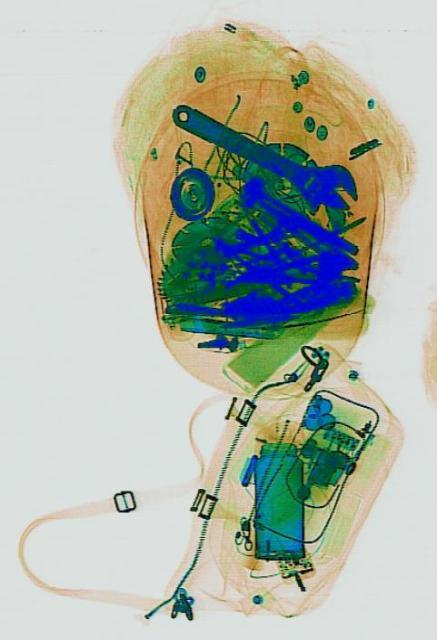Wrench: (163, 80, 364, 232)
